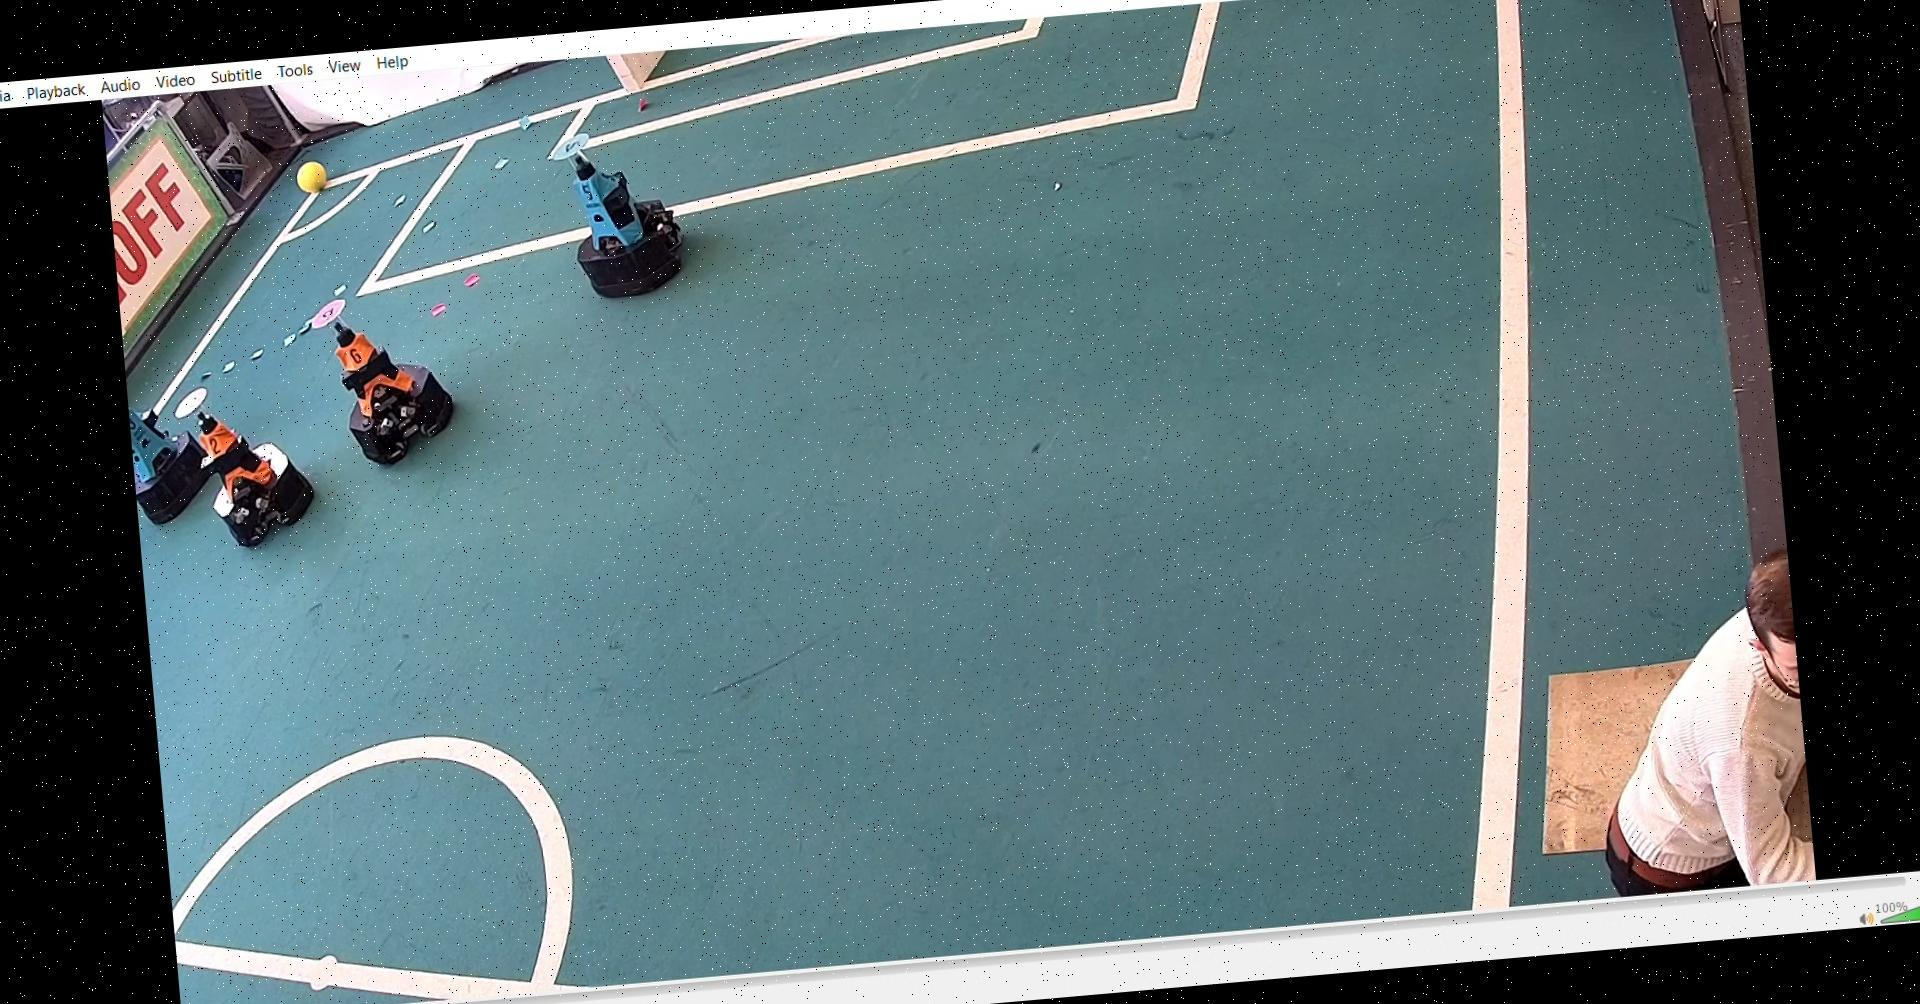Ball: (301, 156, 339, 193)
Team_Blue: (547, 113, 701, 306), (131, 385, 231, 523)
Team_Red: (303, 278, 461, 470), (185, 377, 319, 547)
